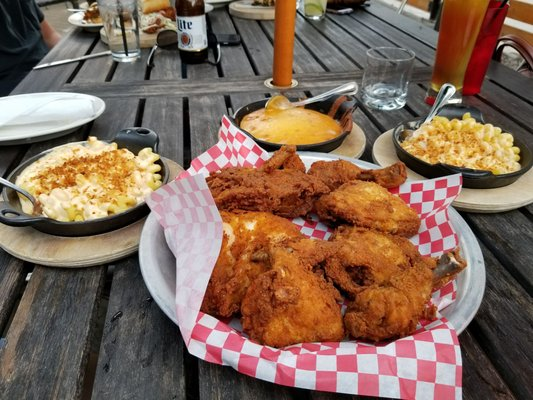pizza: (358, 46, 416, 111), (97, 0, 141, 62)
salad: (407, 83, 456, 130), (0, 175, 47, 217)
sushi: (3, 136, 169, 236), (392, 109, 528, 184)
